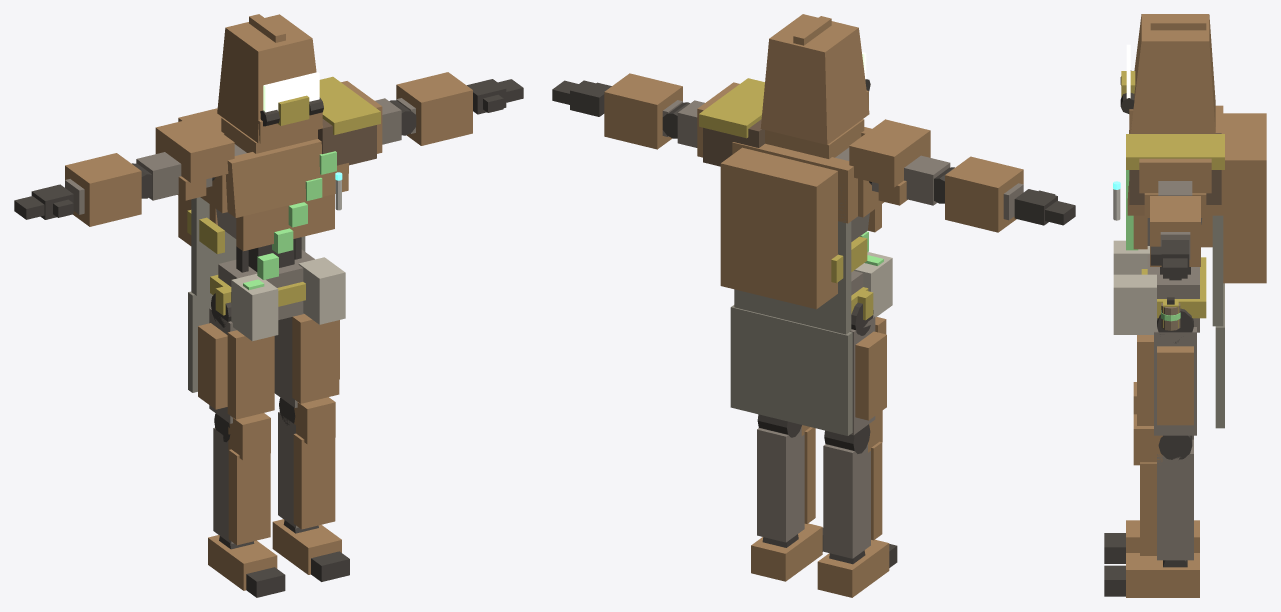
Rendered from char_P_heavy.glb.
The picture shows the model from 3 angles, left to right: view 1: azimuth 30°, elevation 25°; view 2: azimuth 150°, elevation 25°; view 3: azimuth 270°, elevation 25°; orthographic projection. The views are drawn at different scales.
Parts seen in each view (by area): view 1: UpperChest_mesh, Head_mesh, LeftLowerLeg_mesh, RightLowerLeg_mesh, RightUpperLeg_mesh, RightUpperArm_mesh, LeftUpperLeg_mesh, RightLowerArm_mesh, LeftLowerArm_mesh, Hips_mesh, Chest_mesh, LeftShoulder_mesh (+10 smaller); view 2: UpperChest_mesh, Hips_mesh, Head_mesh, RightLowerLeg_mesh, LeftLowerLeg_mesh, RightUpperArm_mesh, RightLowerArm_mesh, LeftLowerArm_mesh, LeftShoulder_mesh, RightUpperLeg_mesh, RightFoot_mesh, LeftFoot_mesh (+5 smaller); view 3: Head_mesh, UpperChest_mesh, LeftLowerLeg_mesh, LeftUpperLeg_mesh, LeftShoulder_mesh, Hips_mesh, LeftFoot_mesh, LeftUpperArm_mesh, LeftLowerArm_mesh, Slot_MagSlot_5, LeftHand_mesh, Chest_mesh (+6 smaller).
Part boxes in pixels (x1=…): UpperChest_mesh: x1=178, y1=108, x2=348, y2=295; Head_mesh: x1=217, y1=14, x2=323, y2=143; LeftLowerLeg_mesh: x1=278, y1=397, x2=335, y2=529; RightLowerLeg_mesh: x1=213, y1=413, x2=270, y2=545; RightUpperLeg_mesh: x1=198, y1=293, x2=274, y2=423; RightUpperArm_mesh: x1=136, y1=117, x2=234, y2=200; LeftUpperLeg_mesh: x1=274, y1=314, x2=339, y2=407; RightLowerArm_mesh: x1=65, y1=153, x2=152, y2=226; LeftLowerArm_mesh: x1=389, y1=72, x2=472, y2=145; Hips_mesh: x1=188, y1=249, x2=314, y2=392; Chest_mesh: x1=209, y1=194, x2=334, y2=289; LeftShoulder_mesh: x1=318, y1=76, x2=380, y2=165; UpperChest_mesh: x1=720, y1=119, x2=884, y2=334; Hips_mesh: x1=730, y1=271, x2=873, y2=435; Head_mesh: x1=760, y1=14, x2=870, y2=144; RightLowerLeg_mesh: x1=823, y1=410, x2=882, y2=558; LeftLowerLeg_mesh: x1=757, y1=414, x2=815, y2=542; RightUpperArm_mesh: x1=849, y1=119, x2=950, y2=205; RightLowerArm_mesh: x1=934, y1=156, x2=1023, y2=232; LeftLowerArm_mesh: x1=604, y1=73, x2=689, y2=149; LeftShoulder_mesh: x1=699, y1=78, x2=764, y2=166; RightUpperLeg_mesh: x1=850, y1=302, x2=886, y2=434; RightFoot_mesh: x1=817, y1=539, x2=889, y2=597; LeftFoot_mesh: x1=751, y1=523, x2=822, y2=581; Head_mesh: x1=1120, y1=14, x2=1215, y2=133; UpperChest_mesh: x1=1126, y1=105, x2=1266, y2=326; LeftLowerLeg_mesh: x1=1133, y1=414, x2=1193, y2=560; LeftUpperLeg_mesh: x1=1137, y1=308, x2=1196, y2=435; LeftShoulder_mesh: x1=1126, y1=133, x2=1224, y2=204; Hips_mesh: x1=1141, y1=255, x2=1224, y2=428; LeftFoot_mesh: x1=1126, y1=553, x2=1199, y2=597; LeftUpperArm_mesh: x1=1139, y1=158, x2=1211, y2=214; LeftLowerArm_mesh: x1=1150, y1=196, x2=1200, y2=266; Slot_MagSlot_5: x1=1113, y1=274, x2=1156, y2=334; LeftHand_mesh: x1=1150, y1=240, x2=1189, y2=278; Chest_mesh: x1=1126, y1=215, x2=1212, y2=250.
Size of the model in its own units: 1.92 by 1.97 by 0.525.
